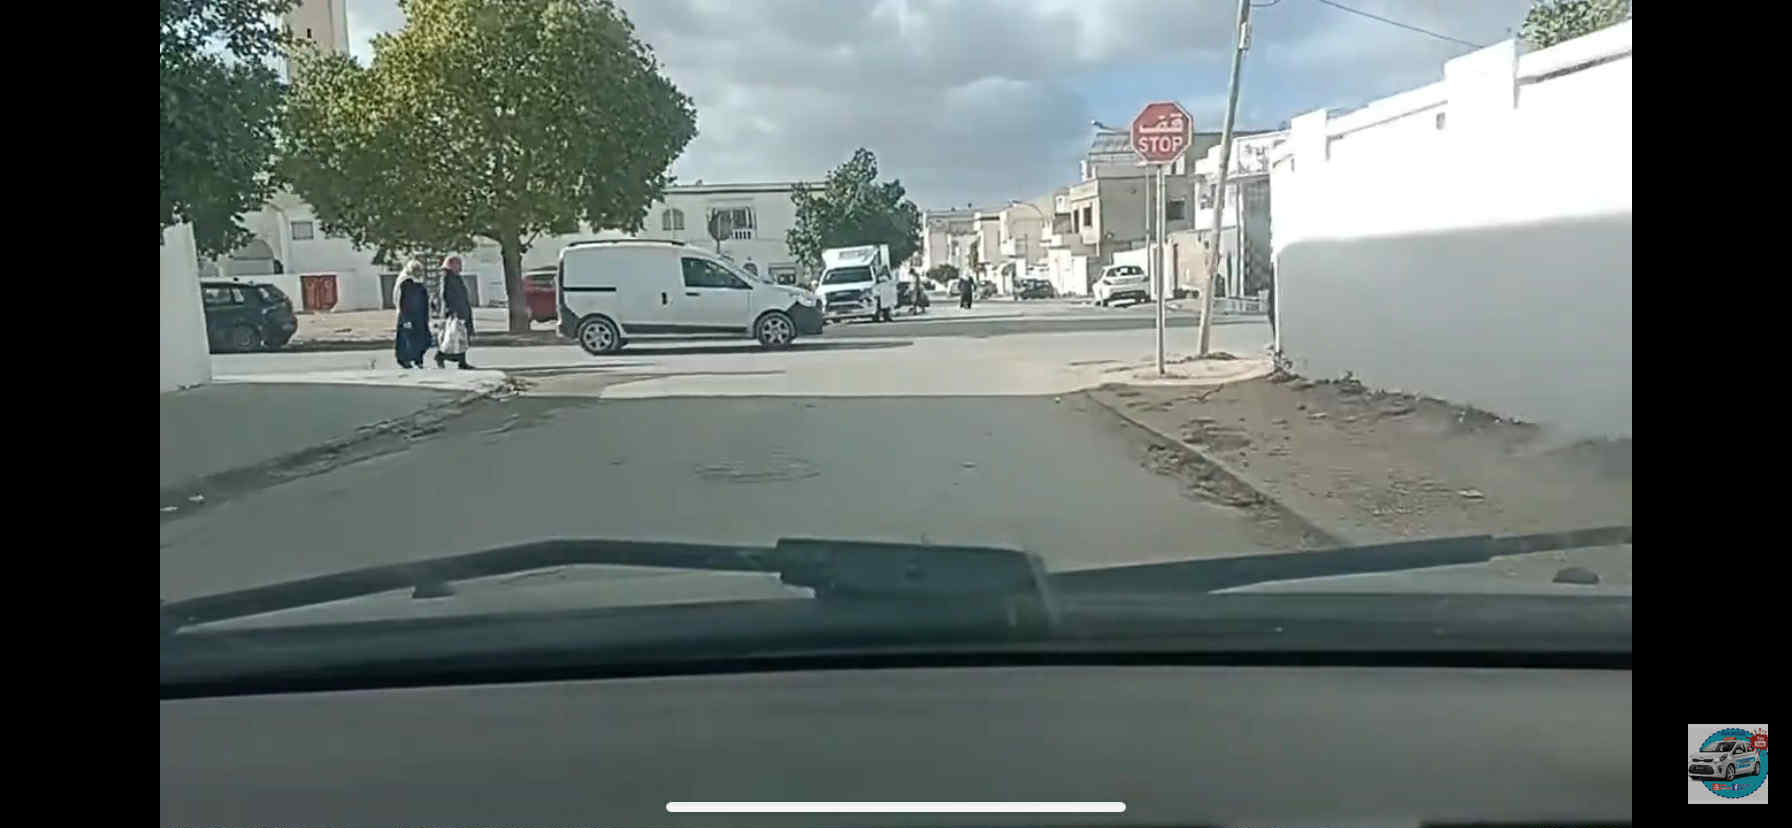Stop: (1129, 99, 1193, 165)
